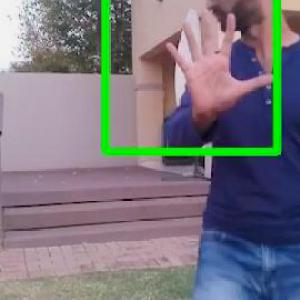follow_hand: (162, 4, 278, 118)
